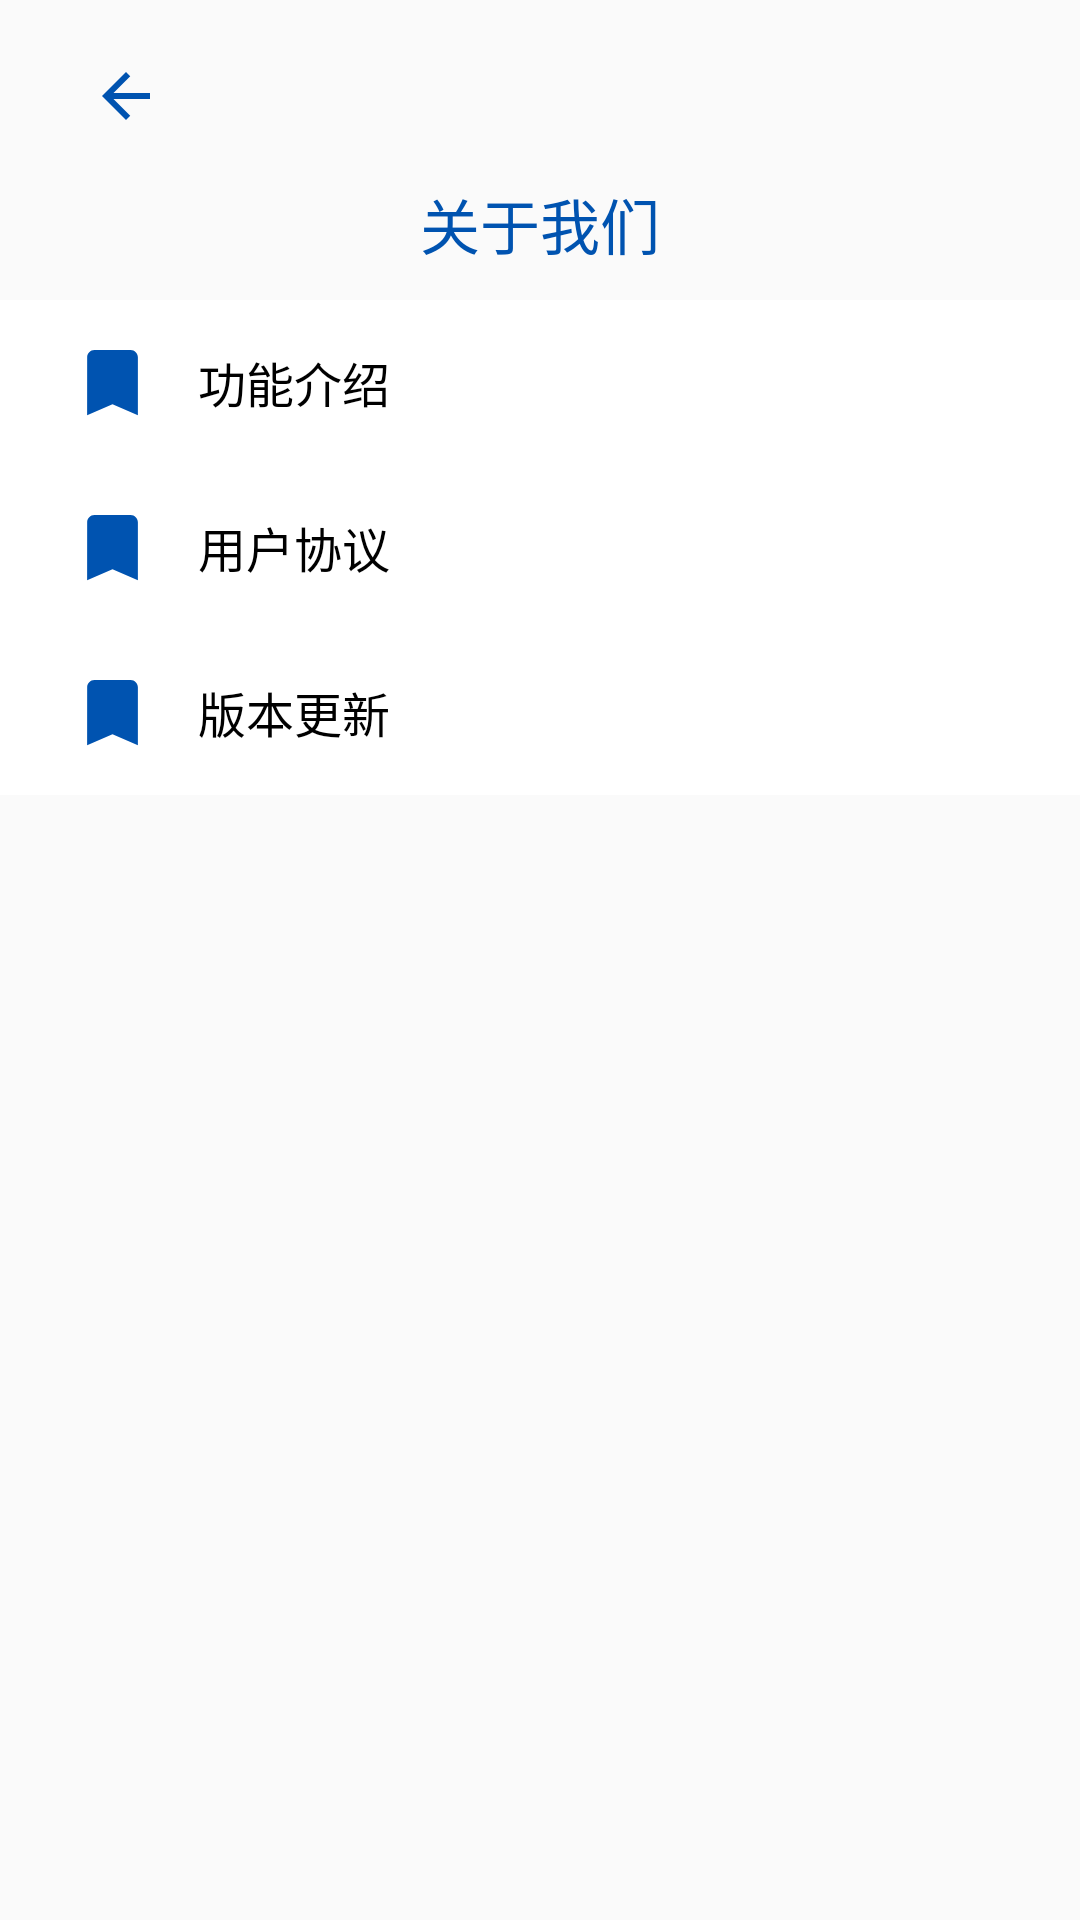

Screen size 1080w x 1920h. Icon name, then its box in pixels as detection(x1, y1, x2, y2):
bookmark: detection(87, 350, 138, 415), detection(87, 515, 138, 580), detection(87, 680, 138, 745)
